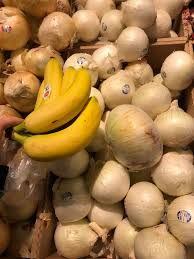banana: (11, 97, 102, 162)
onion: (106, 104, 165, 171), (125, 182, 165, 227), (160, 49, 193, 92), (116, 27, 149, 63)
